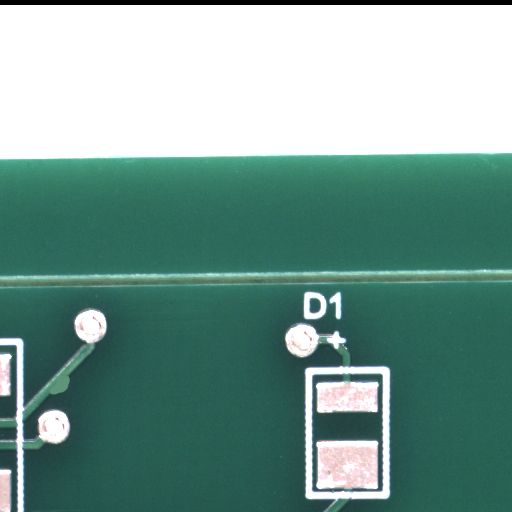Spur: (59, 386, 79, 404)
